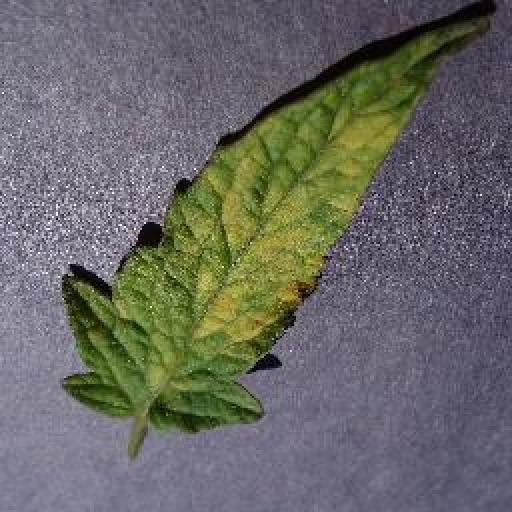disease_tomato: (62, 12, 488, 435)
